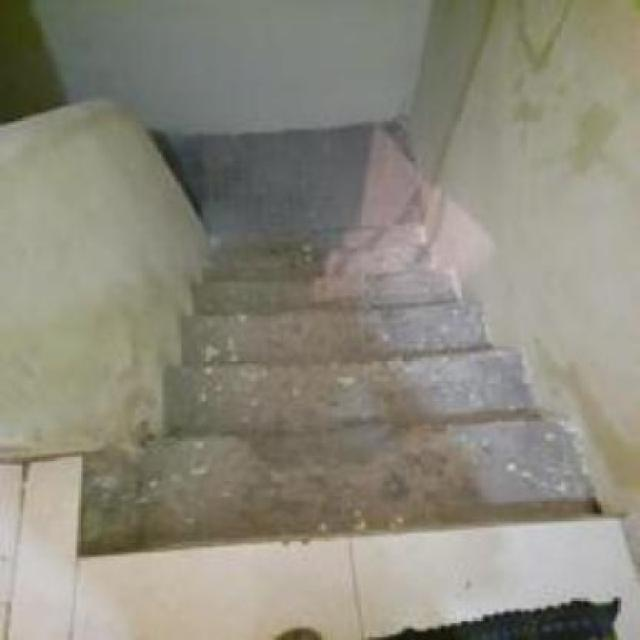stair: (132, 218, 588, 546)
